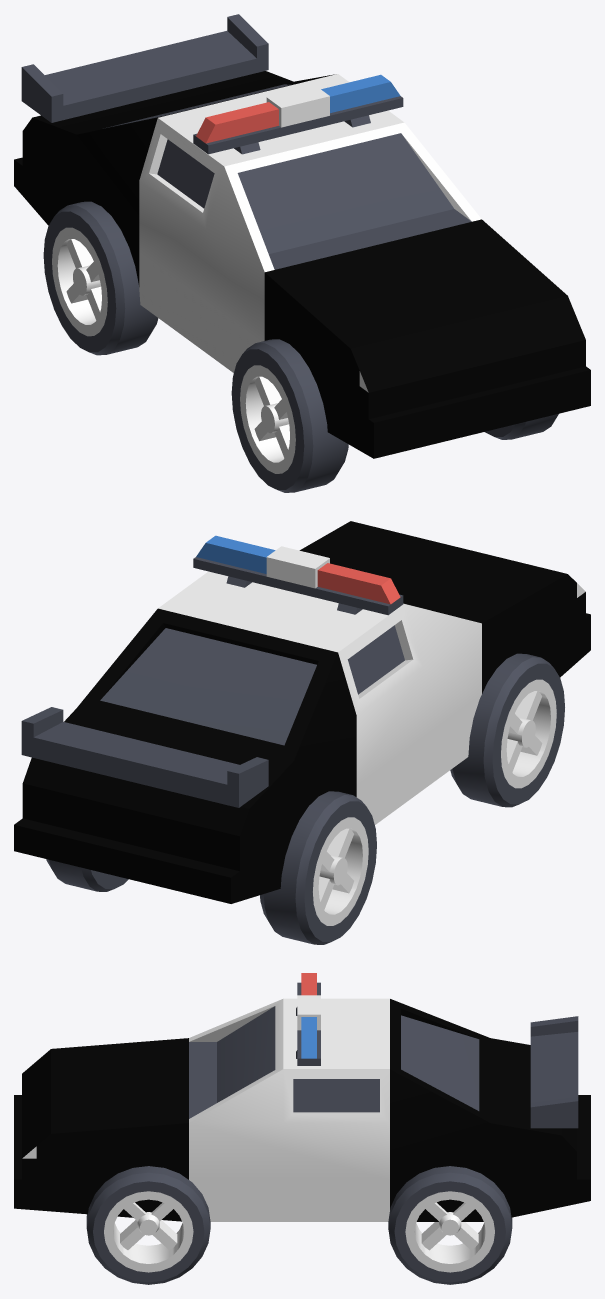
The model's file is car_2_woop_woop.fbx.
The picture shows the model from 3 angles, top to bottom: view 1: azimuth 30°, elevation 25°; view 2: azimuth 150°, elevation 25°; view 3: azimuth 270°, elevation 25°; orthographic projection. The views are drawn at different scales.
Visible parts, largest first — view 1: hood_default_394, windshield_sports_399, trunk_default_396, wheel_smallSports_392, detail_spoiler_401, wheel_smallSports_393, detail_policeLights_400, wheel_smallSports_391; view 2: trunk_default_396, windshield_sports_399, hood_default_394, wheel_smallSports_393, wheel_smallSports_392, detail_spoiler_401, detail_policeLights_400, wheel_smallSports_390; view 3: windshield_sports_399, trunk_default_396, hood_default_394, wheel_smallSports_391, wheel_smallSports_390, detail_spoiler_401, detail_policeLights_400.
Boxes of the visible parts, x1,y1,x2,y2 form: hood_default_394: [264, 219, 590, 458]; windshield_sports_399: [139, 74, 481, 372]; trunk_default_396: [14, 71, 334, 286]; wheel_smallSports_392: [231, 339, 348, 492]; detail_spoiler_401: [21, 14, 268, 122]; wheel_smallSports_393: [43, 201, 158, 355]; detail_policeLights_400: [193, 74, 403, 154]; wheel_smallSports_391: [485, 414, 558, 439]; trunk_default_396: [14, 608, 356, 903]; windshield_sports_399: [158, 571, 481, 824]; hood_default_394: [299, 521, 590, 693]; wheel_smallSports_393: [260, 791, 376, 944]; wheel_smallSports_392: [450, 653, 564, 807]; detail_spoiler_401: [21, 707, 268, 807]; detail_policeLights_400: [193, 535, 403, 615]; wheel_smallSports_390: [46, 859, 128, 891]; windshield_sports_399: [189, 998, 389, 1221]; trunk_default_396: [390, 999, 590, 1221]; hood_default_394: [14, 1038, 188, 1221]; wheel_smallSports_391: [86, 1166, 210, 1284]; wheel_smallSports_390: [388, 1166, 512, 1284]; detail_spoiler_401: [530, 1016, 578, 1128]; detail_policeLights_400: [296, 973, 320, 1065].
Bounding box in the file's own units: 12.16 × 12.67 × 28.7.
